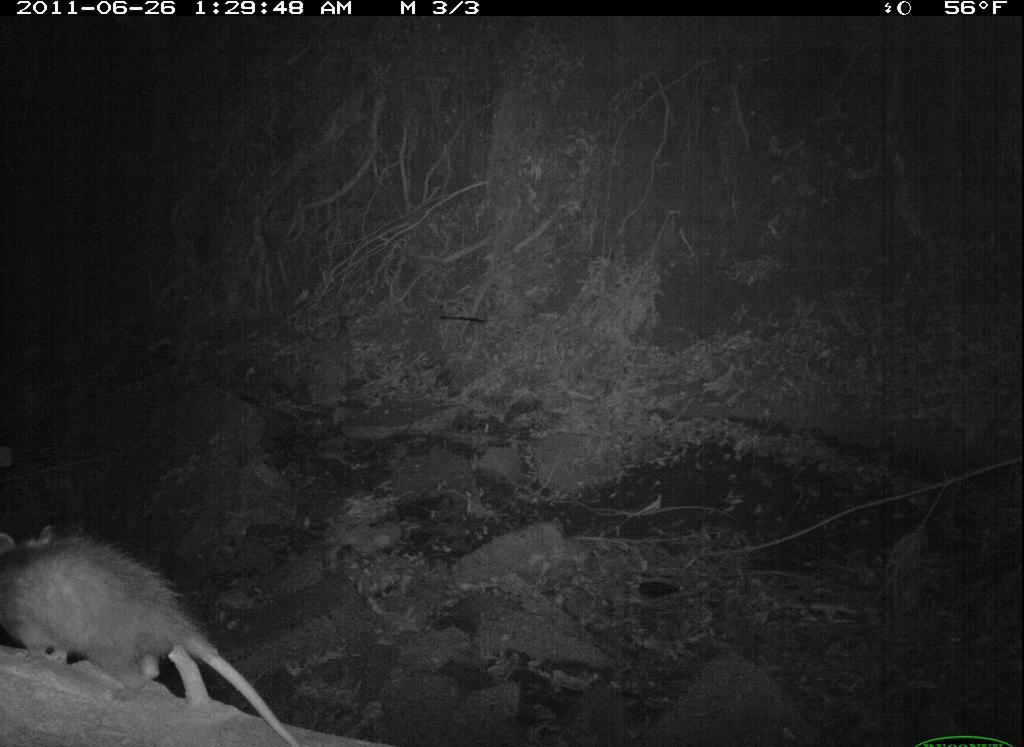opossum: (1, 510, 323, 743)
